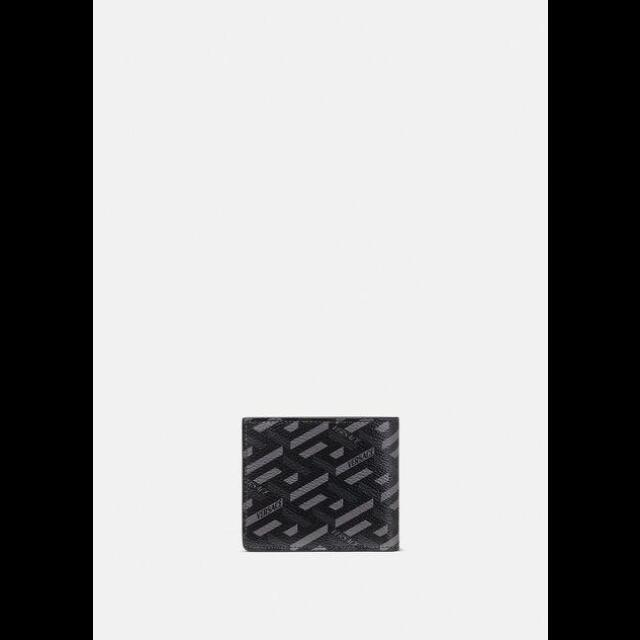Wallet: (242, 417, 398, 551)
